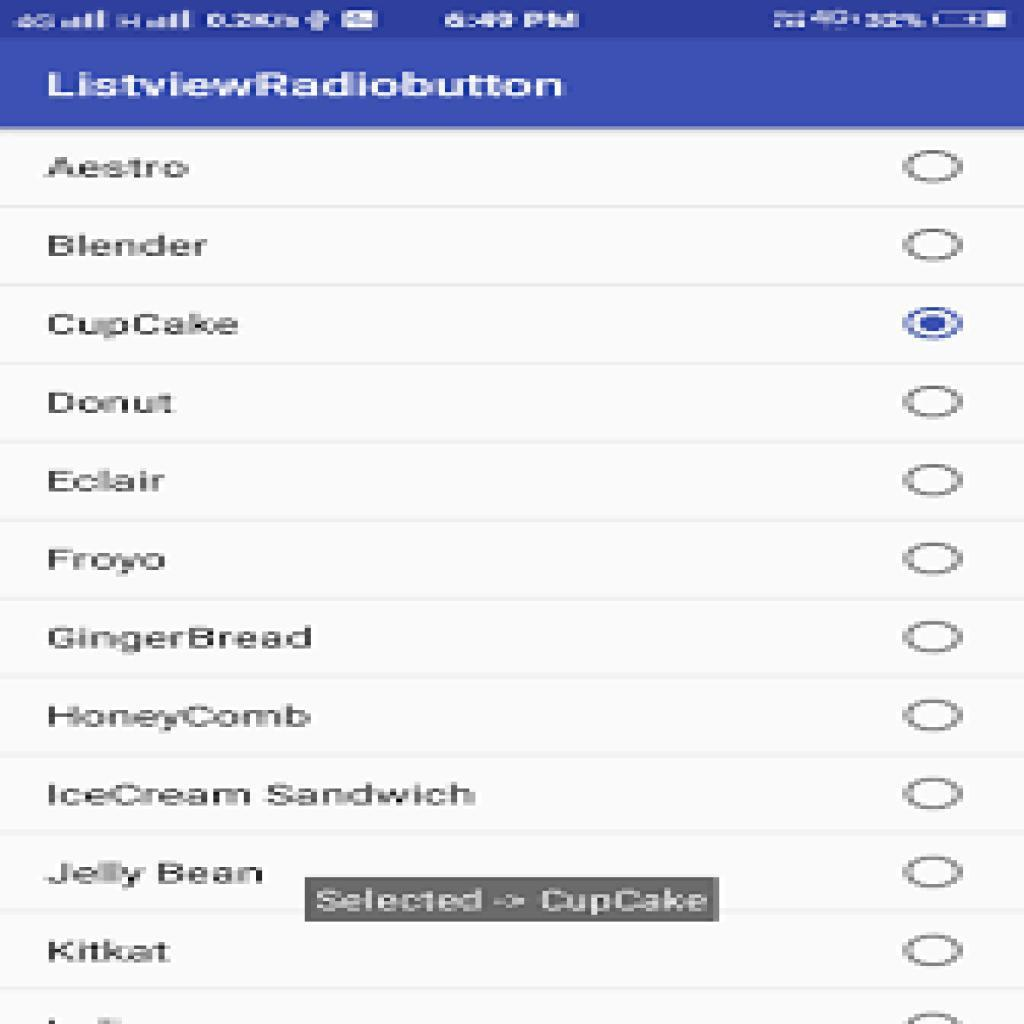label: (44, 778, 486, 812), (51, 620, 315, 653), (44, 704, 315, 735), (42, 858, 260, 892), (45, 308, 248, 344), (42, 228, 219, 266), (47, 384, 183, 424), (40, 932, 177, 971), (44, 544, 170, 583), (40, 155, 199, 185), (50, 465, 172, 500)
radio: (898, 145, 968, 190), (898, 302, 966, 345), (899, 462, 973, 499), (898, 698, 970, 736), (902, 774, 969, 814), (899, 227, 969, 265), (902, 857, 971, 894), (899, 386, 969, 421), (898, 543, 966, 578), (902, 620, 968, 656), (902, 934, 964, 969)
